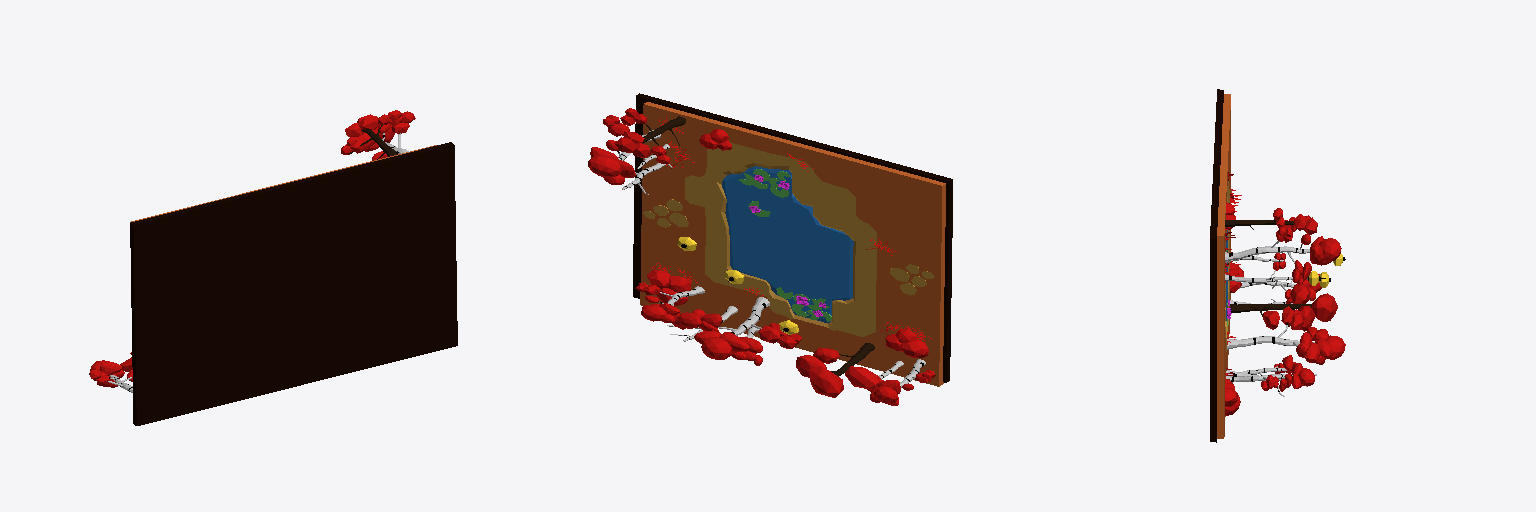
File: jardinmasgrande.obj
The picture shows the model from 3 angles: view 1: azimuth 30°, elevation 25°; view 2: azimuth 150°, elevation 25°; view 3: azimuth 270°, elevation 25°; orthographic projection.
Parts seen in each view (by area): view 1: jardinmasgrande1:Mesh; view 2: jardinmasgrande1:Mesh; view 3: jardinmasgrande1:Mesh.
Boxes of the visible parts, <box> form: jardinmasgrande1:Mesh: <box>89,110,457,425</box>; jardinmasgrande1:Mesh: <box>588,93,952,405</box>; jardinmasgrande1:Mesh: <box>1210,89,1345,442</box>.
Size of the model in its own units: 74.07 by 47.9 by 26.94.